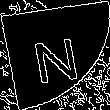N_N: (27, 26, 83, 84)
